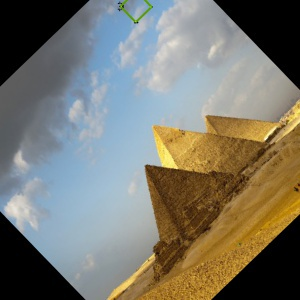square: (115, 1, 155, 26)
